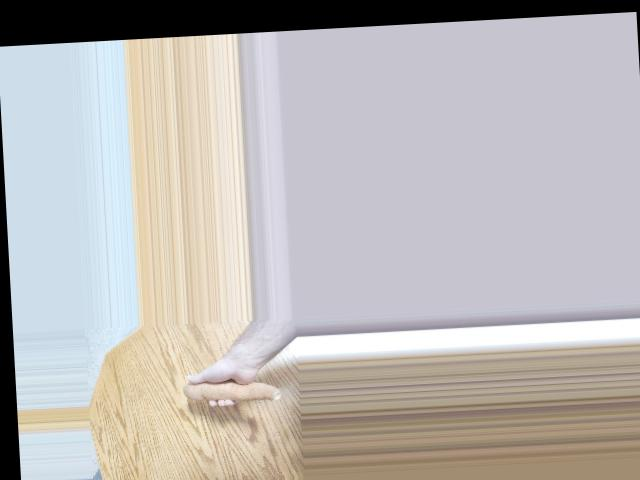sweet_potato: (186, 369, 282, 404)
